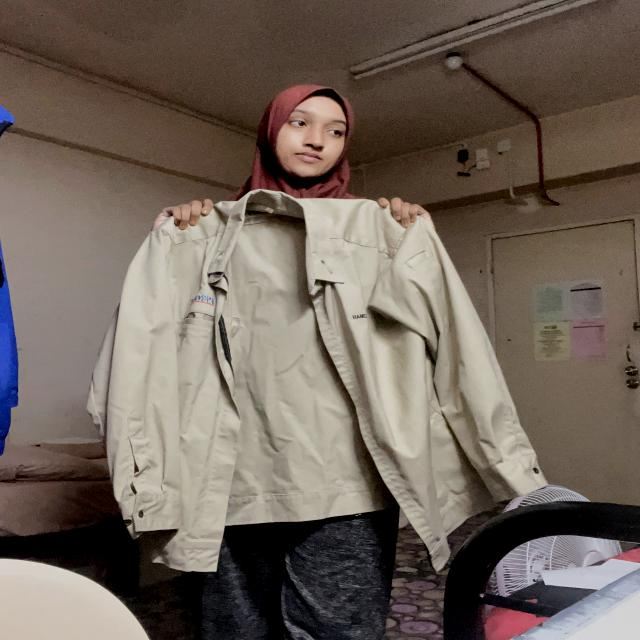person_without_labcoat: (88, 86, 547, 640)
